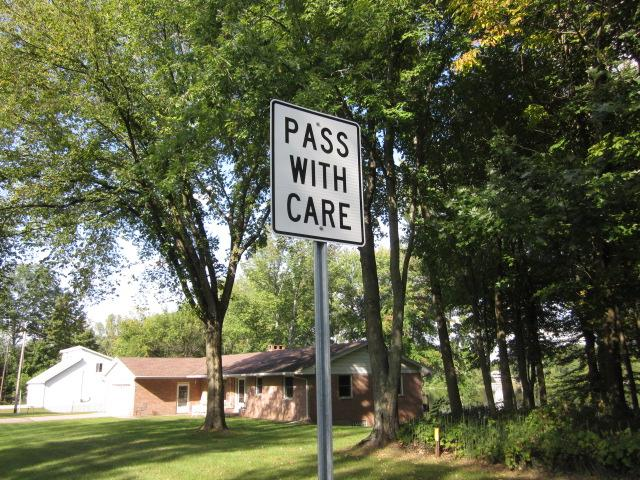regulatory: (260, 88, 374, 253)
